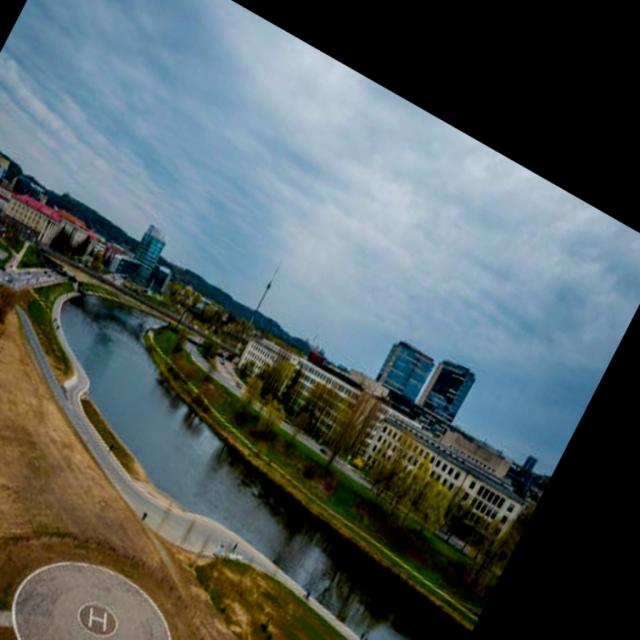helipad: (75, 600, 120, 638)
